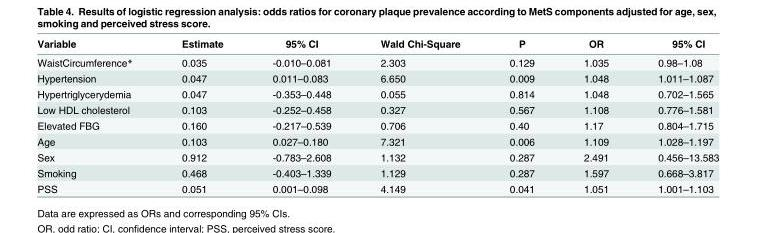table: (36, 37, 718, 194)
table column: (355, 37, 484, 194), (36, 37, 156, 194), (247, 37, 355, 194), (156, 37, 247, 194), (632, 37, 718, 194), (484, 37, 558, 194), (558, 37, 632, 194)
table column header: (36, 37, 718, 52)
table row: (36, 52, 718, 70), (36, 85, 718, 101), (36, 101, 718, 117), (36, 117, 718, 133), (36, 148, 718, 164), (36, 164, 718, 180), (36, 37, 718, 52), (36, 70, 718, 85), (36, 133, 718, 148), (36, 180, 718, 194)
